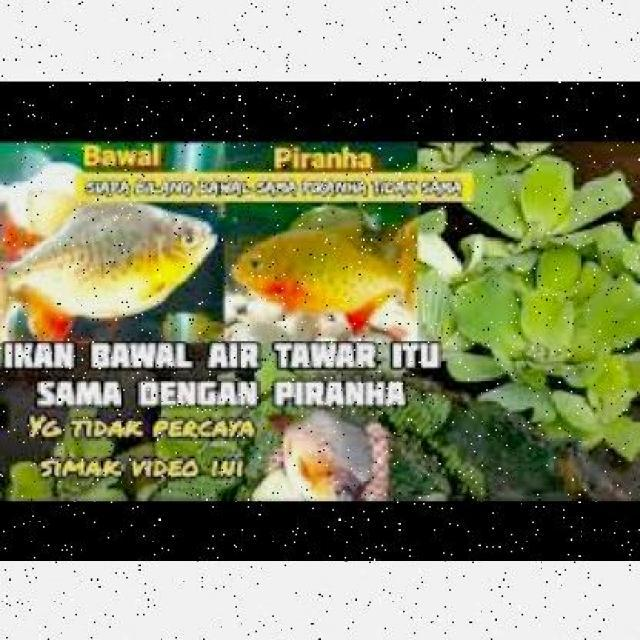ikan-pacu: (0, 195, 215, 324)
